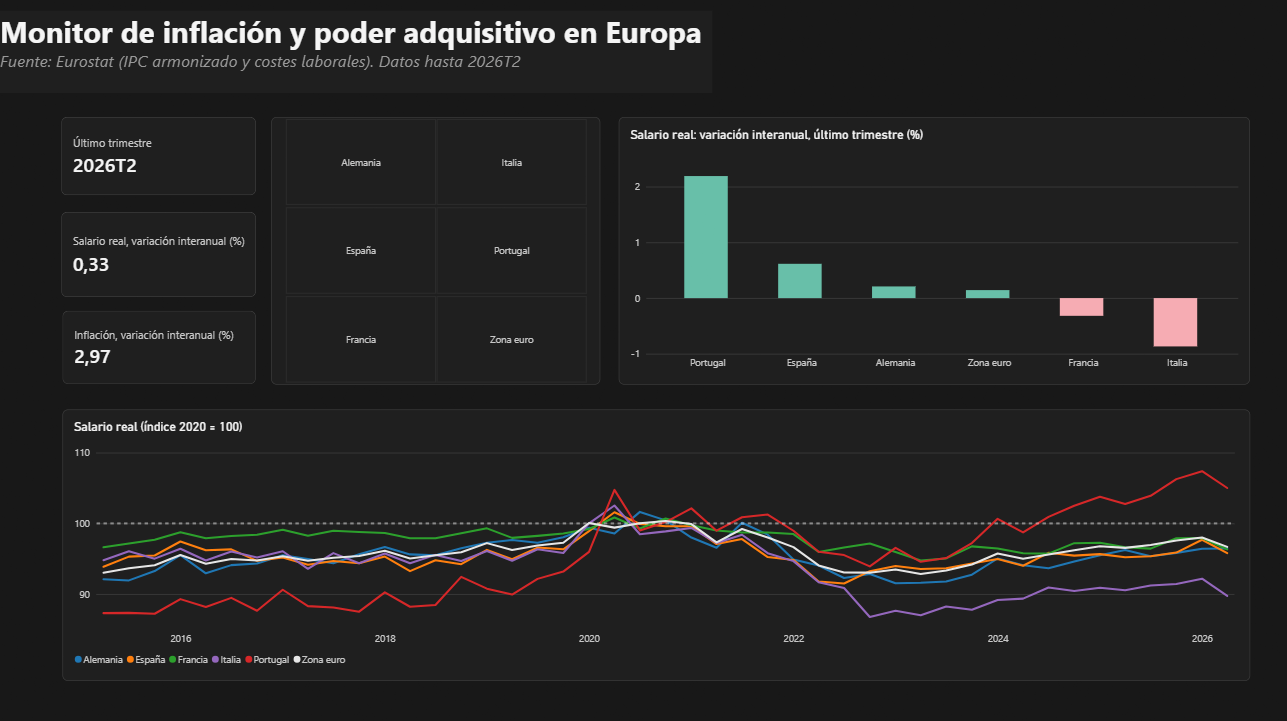

Layout of this report page (visuals, bound fields, positions):
{"tool":"powerbi","page":{"name":"Monitor de inflación y poder adquisitivo en Europa","canvas":[1920,1080],"ordinal":0},"visuals":[{"type":"slicer","fields":{"Values":["datos_procesados.pais"]},"box":[410.3,175.1,479.6,390.3],"z":0},{"type":"lineChart","title":"Salario real (índice 2020 = 100)","fields":{"Category":["datos_procesados.fecha"],"Series":["datos_procesados.pais"],"Y":["Avg(datos_procesados.salario_real)"]},"box":[105.8,601.8,1732.5,395.7],"z":1000},{"type":"clusteredColumnChart","title":"Salario real: variación interanual, último trimestre (%)","fields":{"Category":["datos_procesados.pais"],"Y":["datos_procesados.Salario Real YoY Ultimo Trimestre"]},"box":[917.3,175.1,921,390.3],"z":2000},{"type":"cardVisual","fields":{"Data":["datos_procesados.Salario Real YoY Ultimo Trimestre"]},"box":[104,313.7,284.5,124],"z":3000},{"type":"cardVisual","fields":{"Data":["datos_procesados.Ultimo Trimestre"]},"box":[104,175.1,284.5,114.9],"z":4000},{"type":"cardVisual","fields":{"Data":["datos_procesados.Inflacion Ultimo Trimestre"]},"box":[105.8,457.8,282.7,107.6],"z":5000},{"type":"textbox","box":[14.6,20.1,1039.5,120.4],"z":6000}]}

Visuals, with their boxes in screenshot pixels (x1, y1, x2, y2), scaled from the page's 1920x1080 canvas onto the 1287x721 screenshot:
slicer - datos_procesados.pais: bbox=[275, 117, 597, 377]
"Salario real (índice 2020 = 100)" lineChart: bbox=[71, 402, 1232, 666]
"Salario real: variación interanual, último trimestre (%)" clusteredColumnChart: bbox=[615, 117, 1232, 377]
cardVisual - datos_procesados.Salario Real YoY Ultimo Trimestre: bbox=[70, 209, 260, 292]
cardVisual - datos_procesados.Ultimo Trimestre: bbox=[70, 117, 260, 194]
cardVisual - datos_procesados.Inflacion Ultimo Trimestre: bbox=[71, 306, 260, 377]
textbox: bbox=[10, 13, 707, 94]
